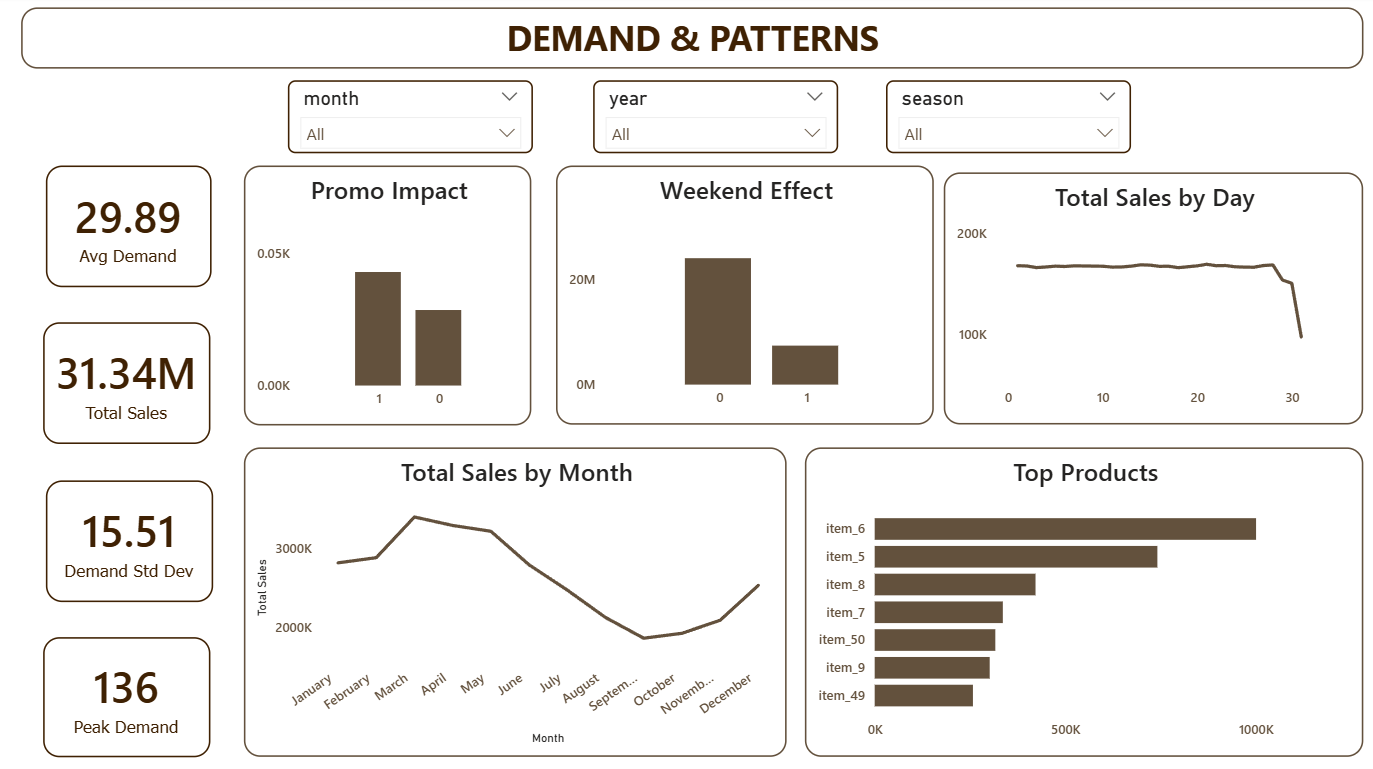

The page's visual inventory and layout, read from the dashboard file:
{"tool":"powerbi","page":{"name":"Page 1","canvas":[1280,720],"ordinal":0},"visuals":[{"type":"card","title":"Total Sales","fields":{"Values":["retail_sales.Total Sales"]},"box":[45.1,303,154.7,112.8],"z":0},{"type":"card","fields":{"Values":["retail_sales.Avg Demand"]},"box":[46.7,158,153.1,112.8],"z":1000},{"type":"card","fields":{"Values":["retail_sales.Peak Demand"]},"box":[45.1,594.7,154.7,111.2],"z":2000},{"type":"textbox","box":[24.2,11.3,1242.7,56.4],"z":3000},{"type":"lineChart","fields":{"Y":["retail_sales.Total Sales"],"Category":["retail_sales.date.Variation.Date Hierarchy.Day"]},"box":[878.4,164.4,388.4,233.7],"z":4000},{"type":"lineChart","fields":{"Category":["retail_sales.date.Variation.Date Hierarchy.Month"],"Y":["retail_sales.Total Sales"]},"box":[230.5,419.1,502.9,286.9],"z":5000},{"type":"barChart","title":"Top Products","fields":{"Category":["retail_sales.item_id"],"Y":["retail_sales.Total Sales"]},"box":[749.5,419.1,517.4,286.9],"z":6000},{"type":"columnChart","title":"Weekend Effect","fields":{"Y":["retail_sales.Total Sales"],"Category":["retail_sales.weekend flag"]},"box":[519,158,349.7,240.1],"z":7000},{"type":"columnChart","title":"Promo Impact","fields":{"Category":["retail_sales.promo"],"Y":["retail_sales.Total Sales"]},"box":[230.5,158,267.5,240.1],"z":8000},{"type":"card","fields":{"Values":["Count(retail_sales.item_id)"]},"box":[46.7,449.7,154.7,112.8],"z":9000},{"type":"slicer","fields":{"Values":["retail_sales.month"]},"box":[270.8,79,227.3,67.7],"z":10000},{"type":"slicer","fields":{"Values":["retail_sales.year"]},"box":[554.4,79,227.3,67.7],"z":11000},{"type":"slicer","fields":{"Values":["retail_sales.season"]},"box":[825.2,79,227.3,67.7],"z":12000}]}

Visuals, with their boxes in screenshot pixels (x1, y1, x2, y2), scaled from the page's 1280x720 canvas onto the 1373x769 screenshot:
"Total Sales" card: rect(48, 324, 214, 444)
card - retail_sales.Avg Demand: rect(50, 169, 214, 289)
card - retail_sales.Peak Demand: rect(48, 635, 214, 754)
textbox: rect(26, 12, 1359, 72)
lineChart - retail_sales.Total Sales x retail_sales.date.Variation.Date Hierarchy.Day: rect(942, 176, 1359, 425)
lineChart - retail_sales.date.Variation.Date Hierarchy.Month x retail_sales.Total Sales: rect(247, 448, 787, 754)
"Top Products" barChart: rect(804, 448, 1359, 754)
"Weekend Effect" columnChart: rect(557, 169, 932, 425)
"Promo Impact" columnChart: rect(247, 169, 534, 425)
card - Count(retail_sales.item_id): rect(50, 480, 216, 601)
slicer - retail_sales.month: rect(290, 84, 534, 157)
slicer - retail_sales.year: rect(595, 84, 838, 157)
slicer - retail_sales.season: rect(885, 84, 1129, 157)
